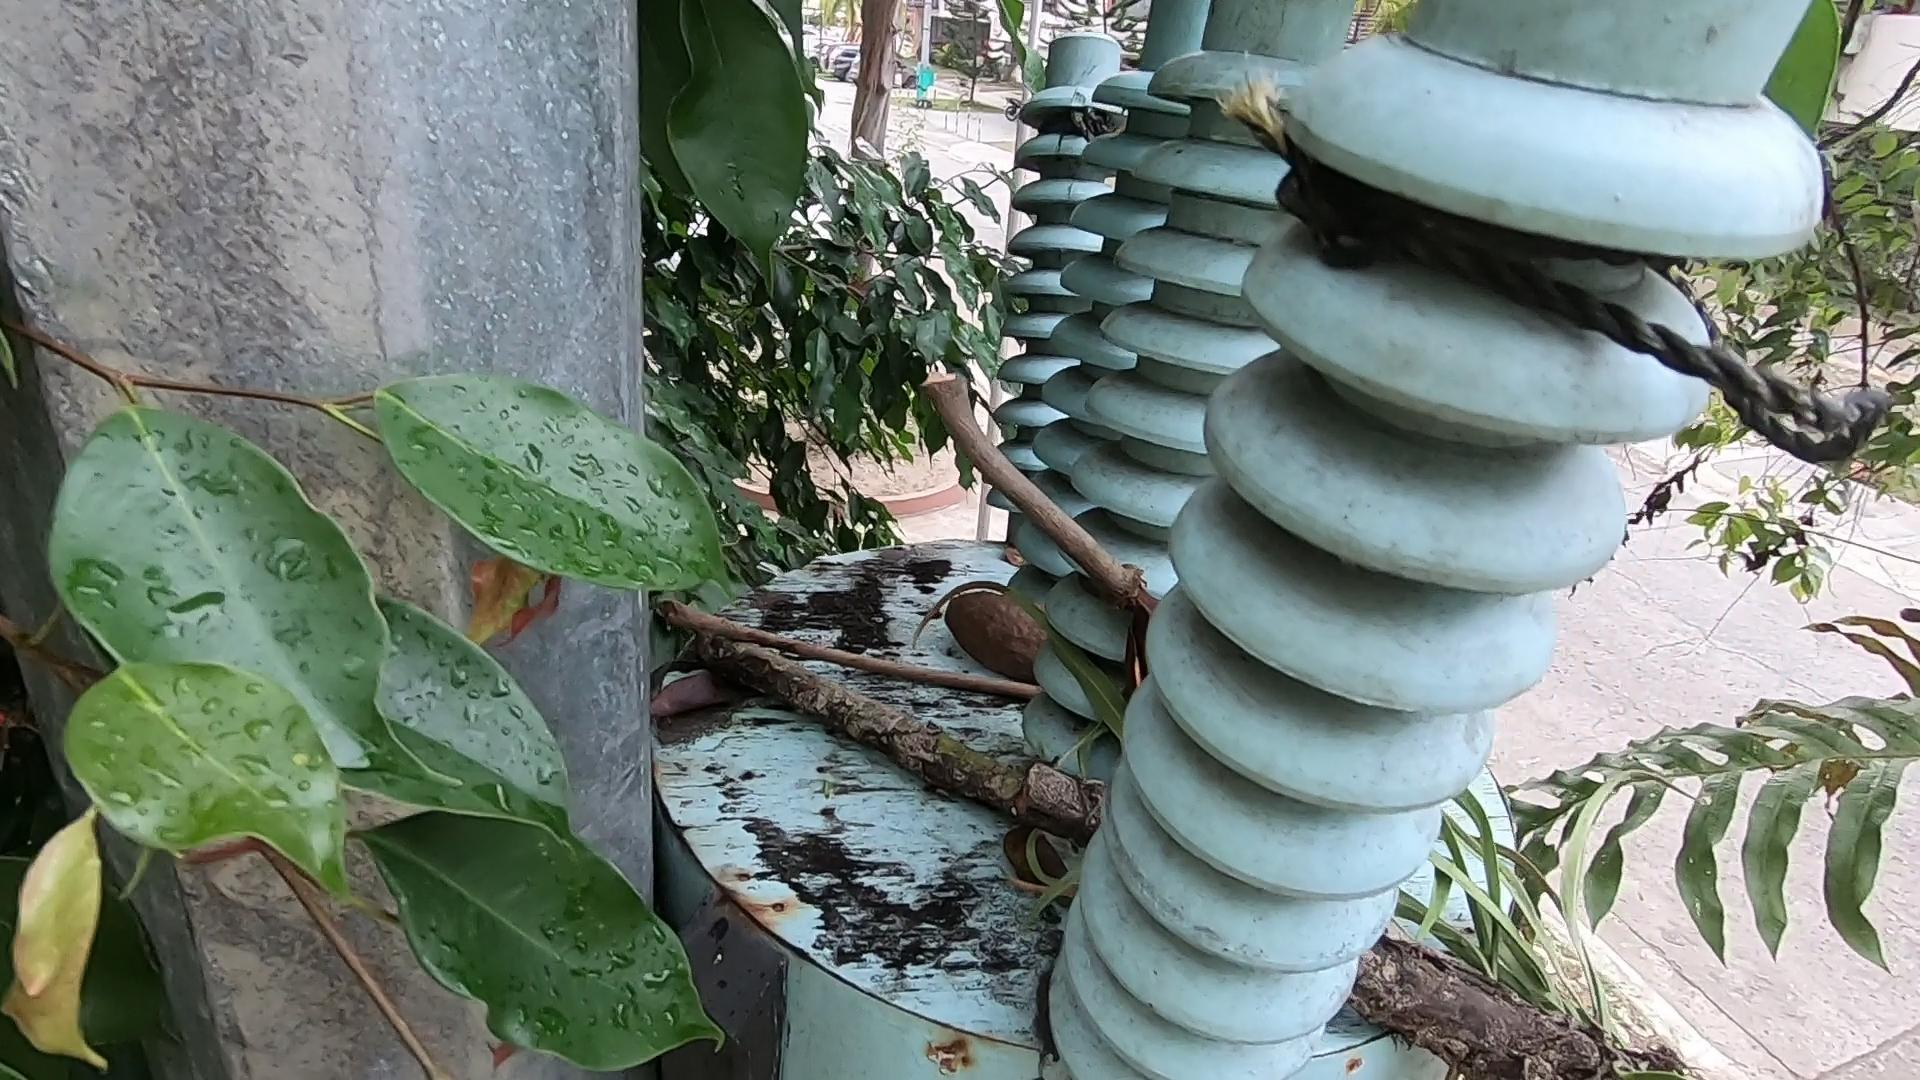branch with leaves: (687, 640, 1575, 1080)
leaf: (624, 597, 781, 775), (1013, 825, 1073, 906)
mahogany fruit: (934, 576, 1137, 719), (1124, 596, 1201, 686)
tree branch: (938, 373, 1147, 611), (658, 605, 1060, 694)
